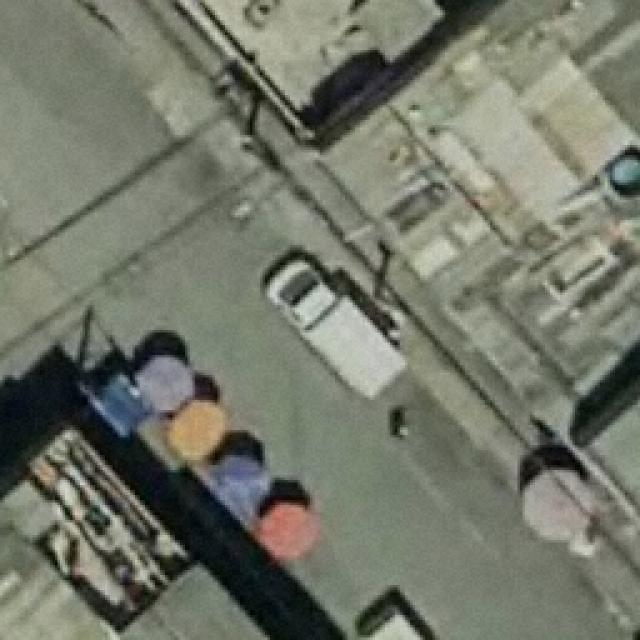vendedor_ambulante: (520, 462, 602, 548), (252, 491, 325, 562), (131, 352, 195, 414), (170, 398, 230, 462), (212, 450, 272, 510)
